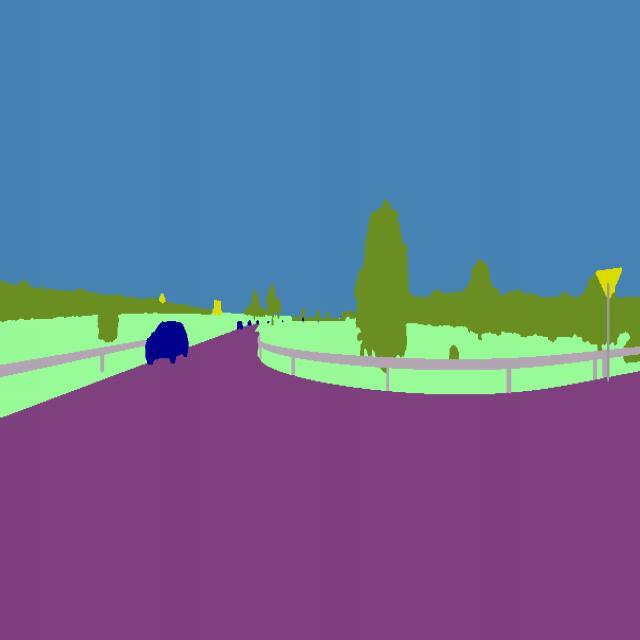safe: (140, 317, 193, 369)
